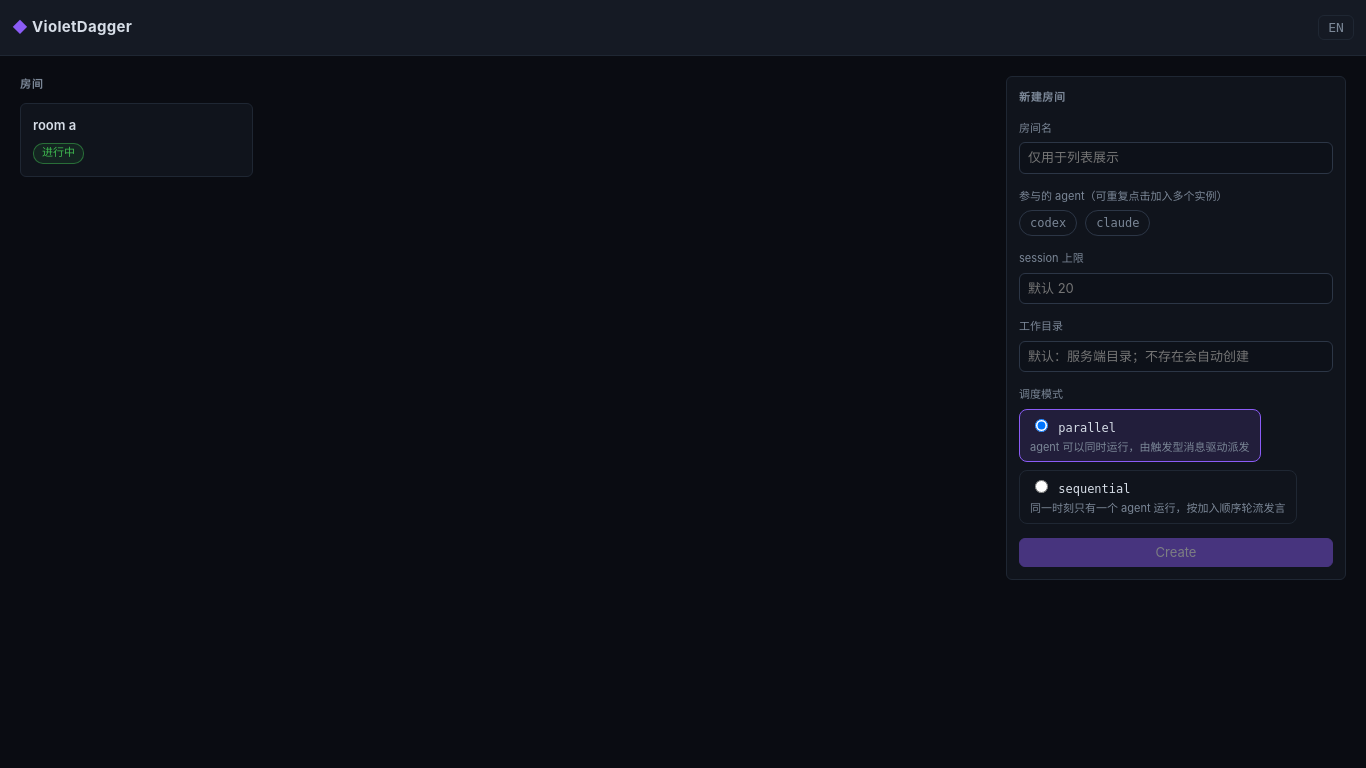
RoomListPage › disables Create until a name and at least one agent instance are chosen
Check: the button with aria-label "add codex" is shown, box [1019,210,1077,236]
Check: the button "Create" is disabled, box [1019,538,1333,567]
Step 1. Type "new room" into the field named "room name" → {"x": 1176, "y": 158}, box [1019,142,1333,174]
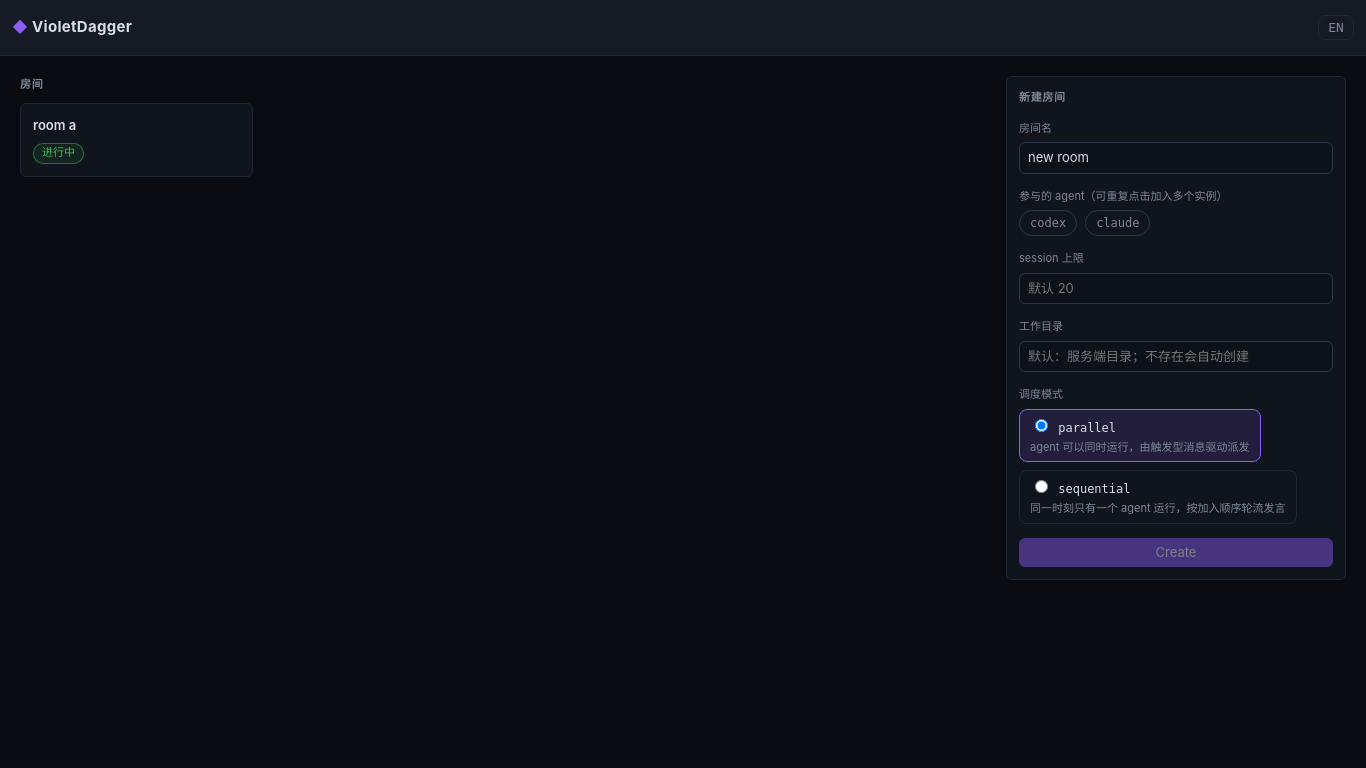
Step 2. Click the button with aria-label "add codex" → {"x": 1048, "y": 223}, box [1019,210,1077,236]
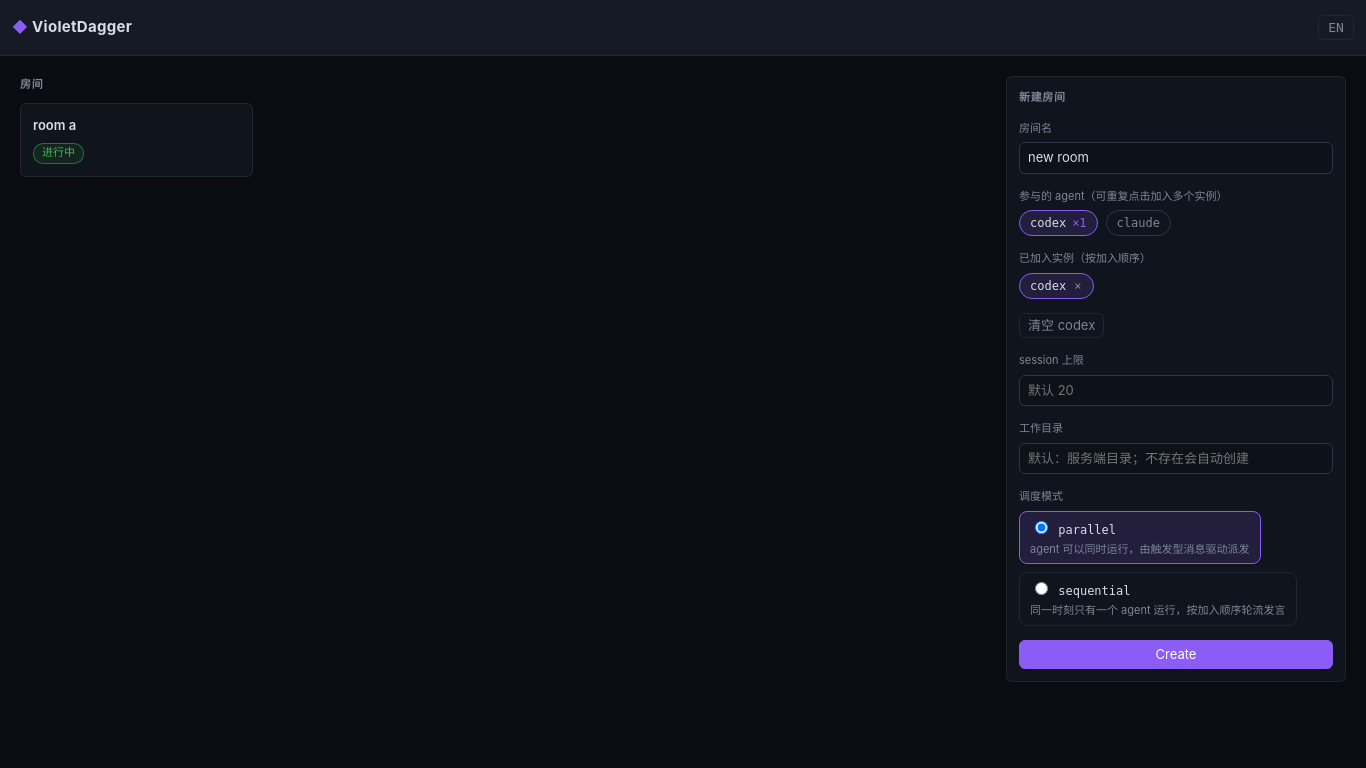
Check: the button "Create" is enabled, box [1019,640,1333,669]
